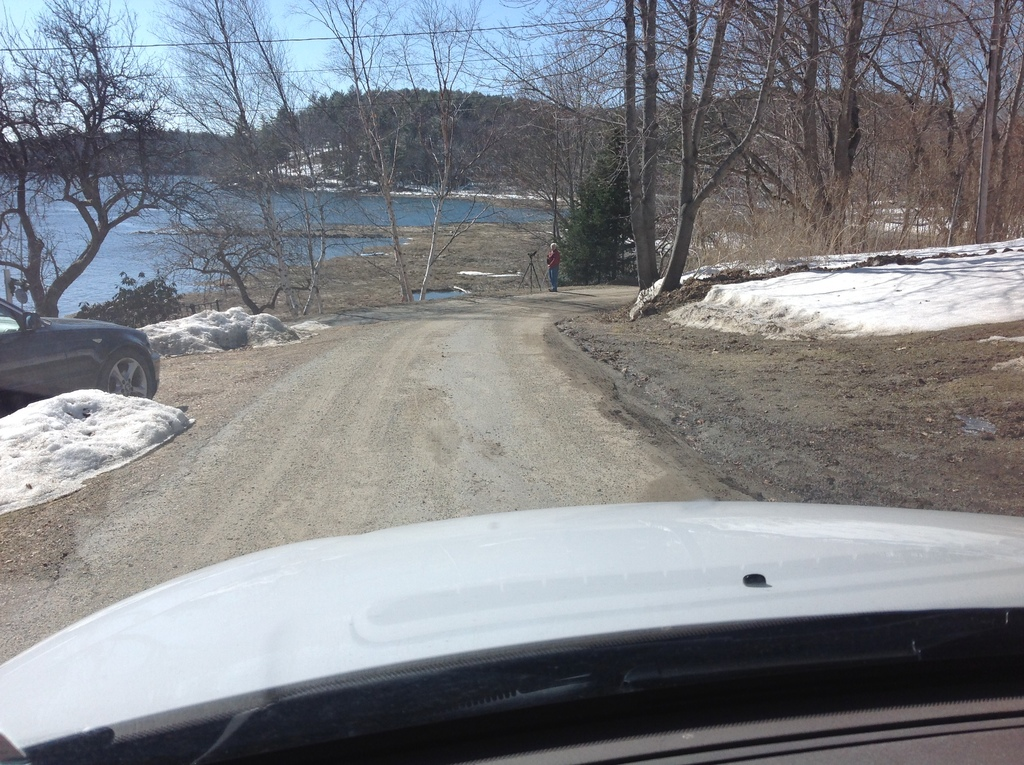Car: (0, 501, 1023, 764), (0, 298, 162, 406)
